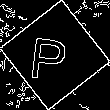P_N: (33, 28, 77, 82)
